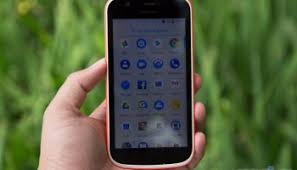nokia: (101, 1, 196, 168)
